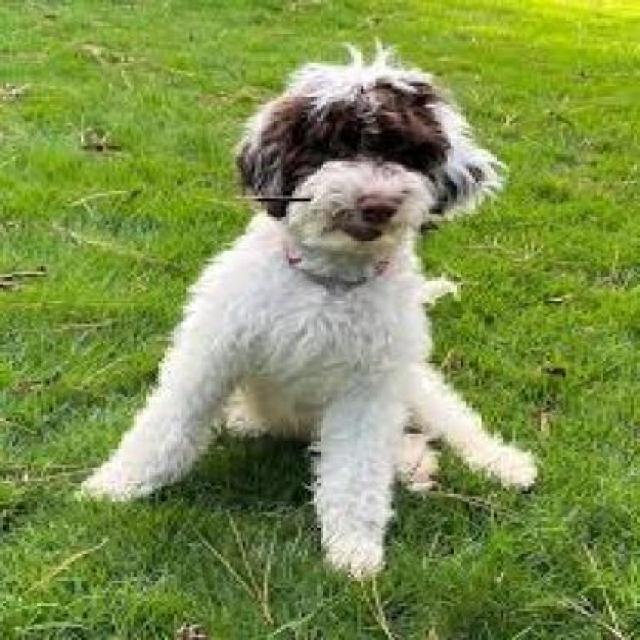animals: (54, 51, 572, 615)
